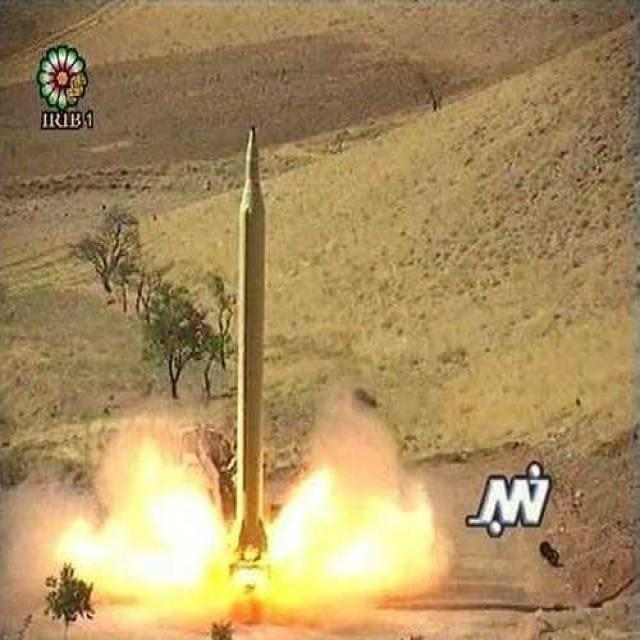missile: (226, 128, 282, 583)
